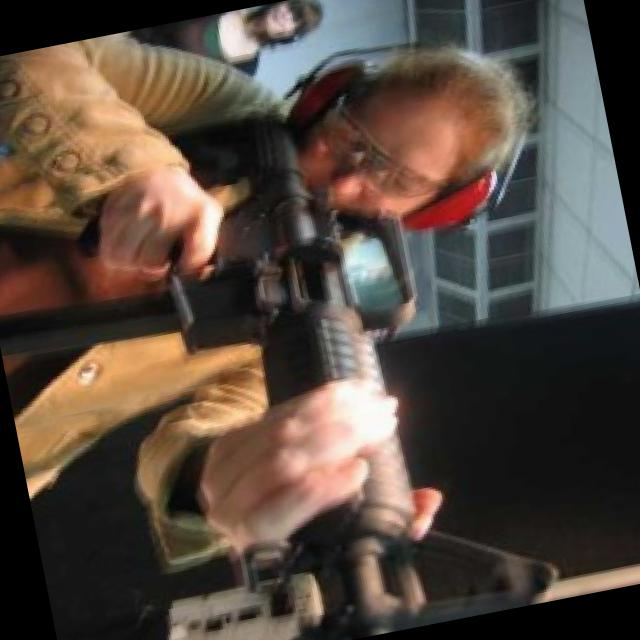long weapon: (63, 67, 512, 639)
